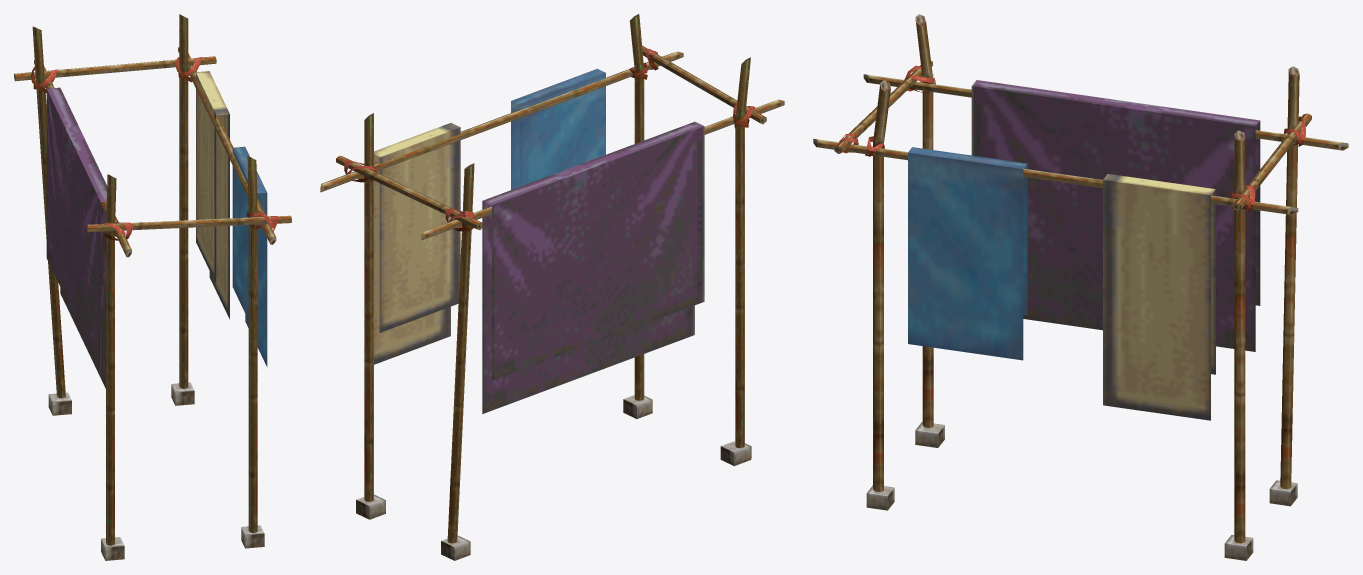
The model's file is jd_shaibeizi_2.FBX.
3 renders of one model, left to right at view 1: azimuth 30°, elevation 25°; view 2: azimuth 150°, elevation 25°; view 3: azimuth 270°, elevation 25°, orthographic. The views are drawn at different scales.
Visible parts, largest first — view 1: jd_shaibeizi_2; view 2: jd_shaibeizi_2; view 3: jd_shaibeizi_2.
Part boxes in pixels (x1,y1,x2,y2): jd_shaibeizi_2: (14, 14, 291, 560); jd_shaibeizi_2: (320, 14, 784, 560); jd_shaibeizi_2: (813, 14, 1348, 560).
Bounding box in the file's own units: 134 × 183 × 210.
